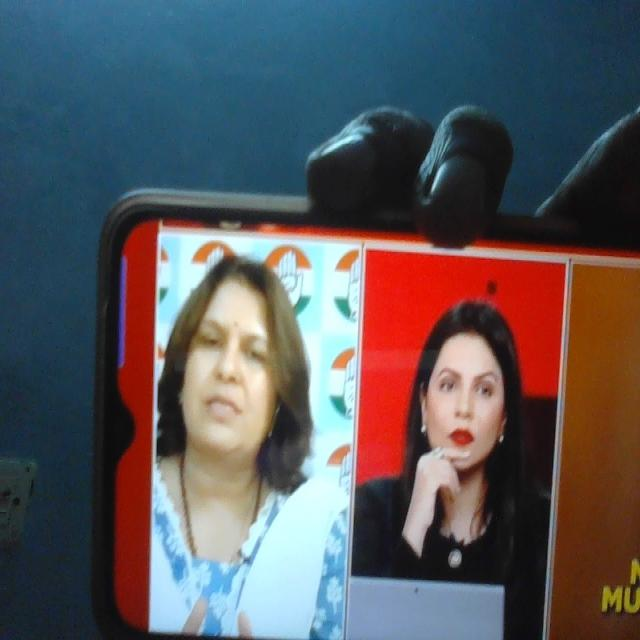fake: (169, 242, 290, 469), (412, 288, 526, 503)
